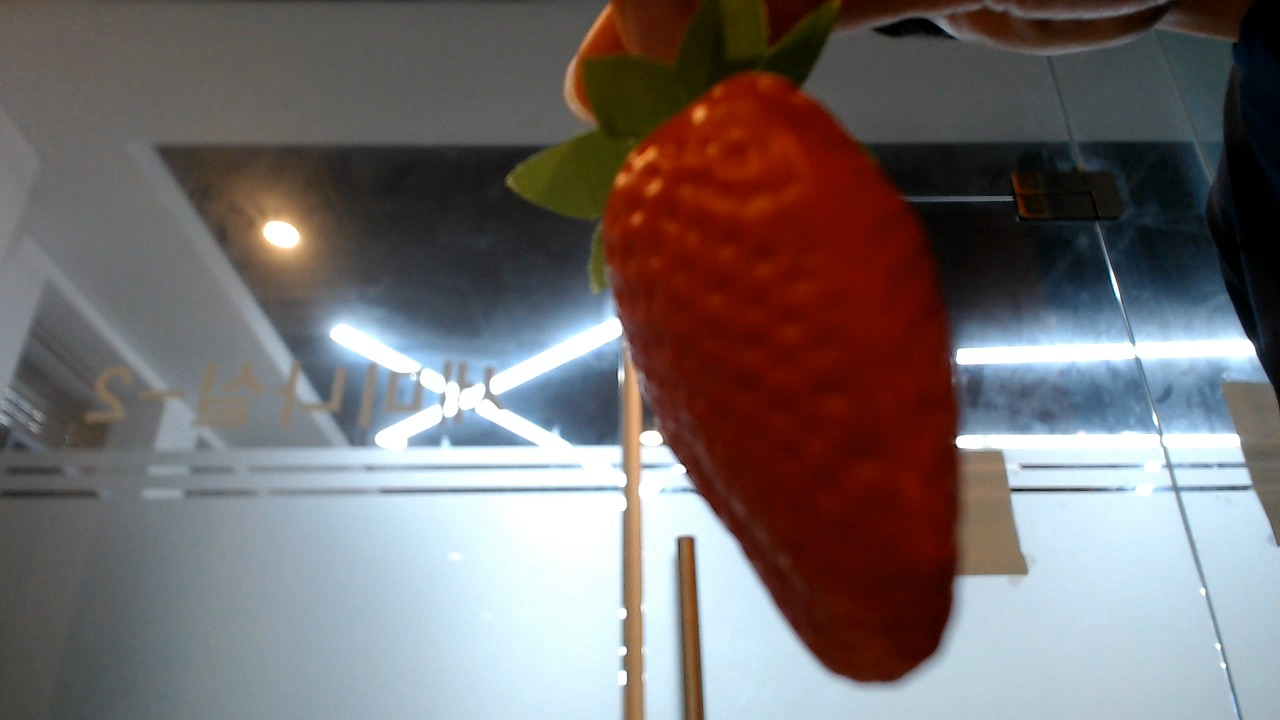strawberry: (584, 61, 963, 683)
